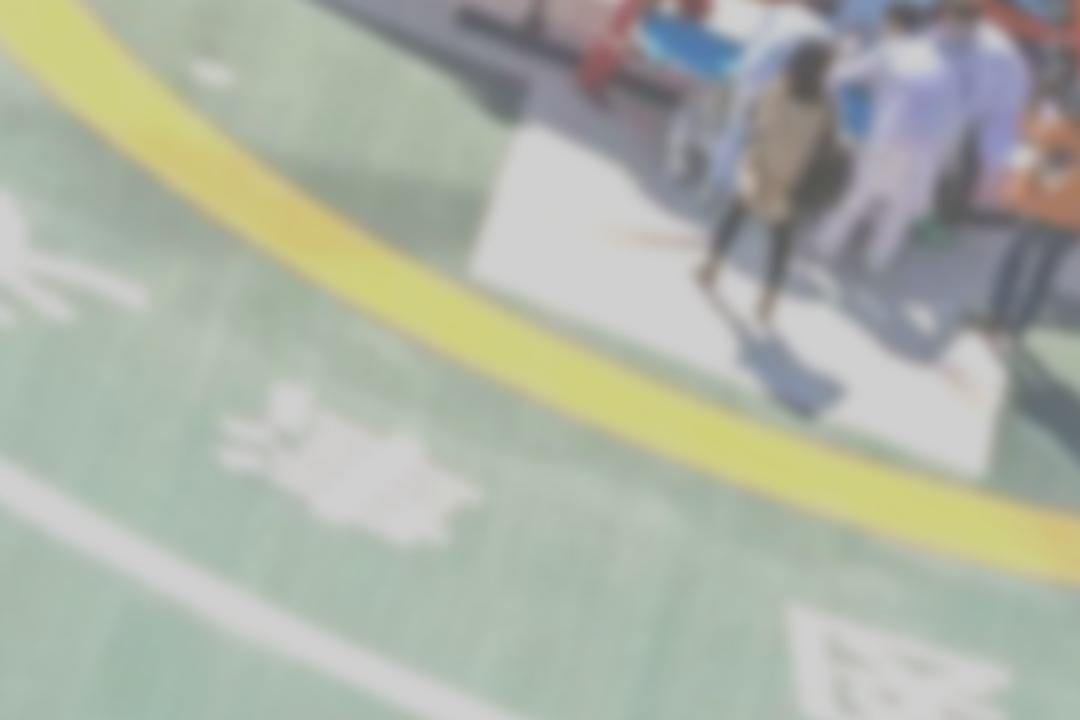Apron: (1, 3, 1080, 591)
